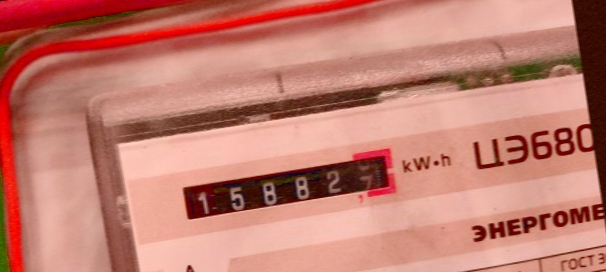1: (196, 189, 214, 219)
2: (326, 169, 346, 199)
5: (228, 185, 250, 214)
7: (359, 174, 377, 193)
8: (261, 180, 281, 210), (294, 175, 313, 204)
screen: (169, 141, 410, 237)
